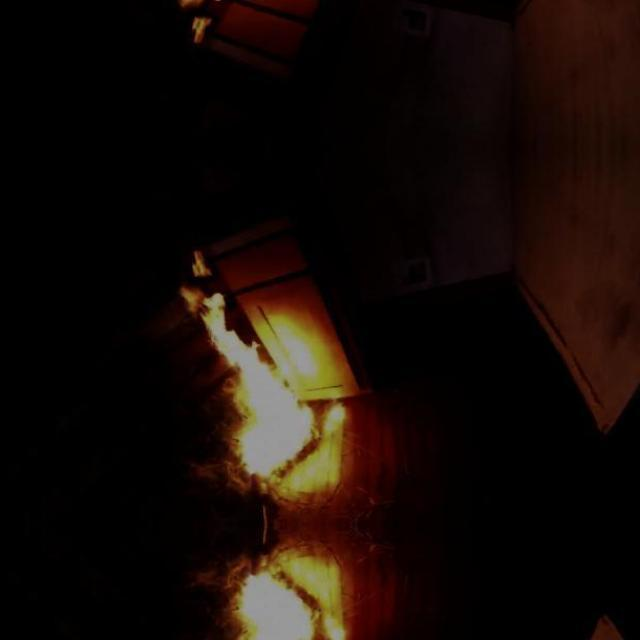smoke: (174, 283, 352, 498), (174, 551, 352, 640), (188, 13, 215, 48), (188, 247, 215, 280)
